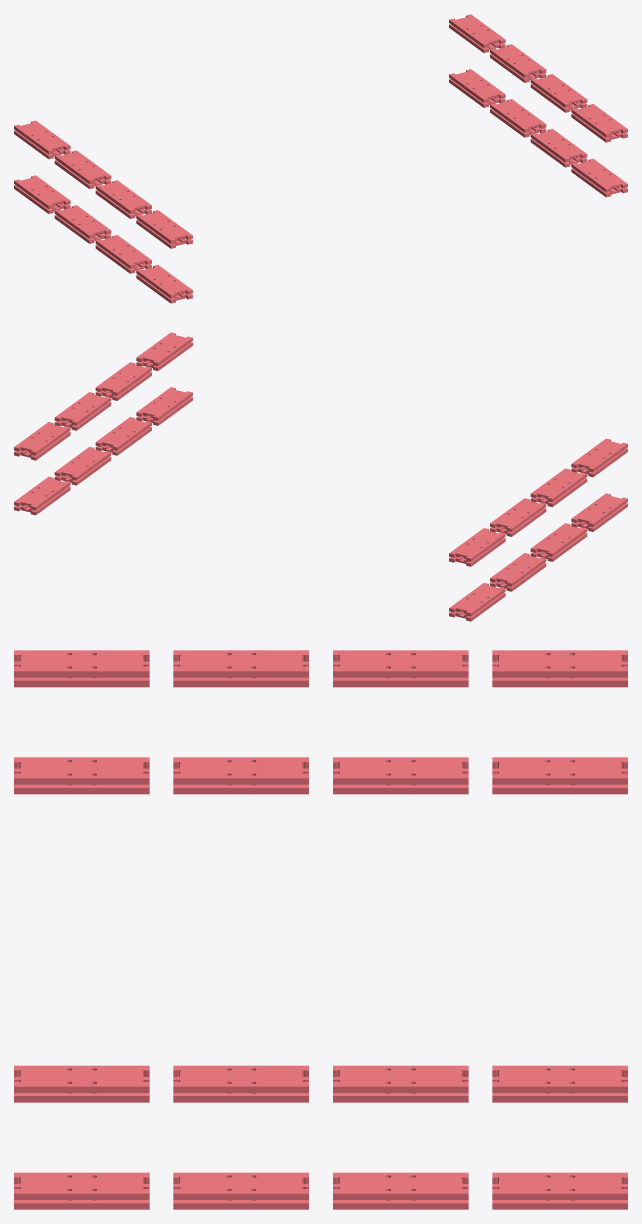
File: BATTERY CRATE STACK V2__BATTERY CRATE L1__BATTERY MODULE V2 CLAMPS__SPINE ASM FRONT STOP__SPINE BASE.glb
3 renders of one model, top to bottom at view 1: azimuth 30°, elevation 25°; view 2: azimuth 150°, elevation 25°; view 3: azimuth 270°, elevation 25°, orthographic. The views are drawn at different scales.
Parts seen in each view (by area): view 1: SPINE BASE 18, SPINE BASE 11, SPINE BASE 14, SPINE BASE 19, SPINE BASE 31, SPINE BASE 15, SPINE BASE 23, SPINE BASE 2, SPINE BASE 10, SPINE BASE 27, SPINE BASE 6, SPINE BASE 7 (+4 smaller); view 2: SPINE BASE 14, SPINE BASE 23, SPINE BASE 15, SPINE BASE 18, SPINE BASE 3, SPINE BASE 11, SPINE BASE 19, SPINE BASE 7, SPINE BASE 22, SPINE BASE 30, SPINE BASE 2, SPINE BASE 10 (+4 smaller); view 3: SPINE BASE 2, SPINE BASE 3, SPINE BASE 14, SPINE BASE 15, SPINE BASE 18, SPINE BASE 19, SPINE BASE 30, SPINE BASE 31, SPINE BASE 7, SPINE BASE 11, SPINE BASE 23, SPINE BASE 27 (+20 smaller).
Part boxes in pixels (x1=…): SPINE BASE 18: x1=54, y1=205, x2=111, y2=238; SPINE BASE 11: x1=530, y1=74, x2=587, y2=107; SPINE BASE 14: x1=95, y1=235, x2=151, y2=268; SPINE BASE 19: x1=54, y1=150, x2=111, y2=184; SPINE BASE 31: x1=14, y1=120, x2=70, y2=154; SPINE BASE 15: x1=95, y1=180, x2=151, y2=213; SPINE BASE 23: x1=490, y1=44, x2=546, y2=77; SPINE BASE 2: x1=136, y1=265, x2=192, y2=298; SPINE BASE 10: x1=530, y1=129, x2=587, y2=162; SPINE BASE 27: x1=449, y1=14, x2=505, y2=48; SPINE BASE 6: x1=571, y1=158, x2=627, y2=192; SPINE BASE 7: x1=571, y1=104, x2=627, y2=137; SPINE BASE 14: x1=530, y1=523, x2=587, y2=556; SPINE BASE 23: x1=54, y1=392, x2=111, y2=425; SPINE BASE 15: x1=530, y1=468, x2=587, y2=502; SPINE BASE 18: x1=490, y1=553, x2=546, y2=586; SPINE BASE 3: x1=571, y1=438, x2=627, y2=472; SPINE BASE 11: x1=95, y1=362, x2=151, y2=395; SPINE BASE 19: x1=490, y1=498, x2=546, y2=531; SPINE BASE 7: x1=136, y1=332, x2=192, y2=366; SPINE BASE 22: x1=54, y1=447, x2=111, y2=480; SPINE BASE 30: x1=449, y1=583, x2=505, y2=616; SPINE BASE 2: x1=571, y1=493, x2=627, y2=526; SPINE BASE 10: x1=95, y1=417, x2=151, y2=450; SPINE BASE 2: x1=14, y1=757, x2=149, y2=784; SPINE BASE 3: x1=14, y1=650, x2=149, y2=677; SPINE BASE 14: x1=173, y1=757, x2=308, y2=784; SPINE BASE 15: x1=173, y1=650, x2=308, y2=677; SPINE BASE 18: x1=333, y1=757, x2=468, y2=784; SPINE BASE 19: x1=333, y1=650, x2=468, y2=677; SPINE BASE 30: x1=492, y1=757, x2=627, y2=784; SPINE BASE 31: x1=492, y1=650, x2=627, y2=677; SPINE BASE 7: x1=14, y1=1065, x2=149, y2=1092; SPINE BASE 11: x1=173, y1=1065, x2=308, y2=1092; SPINE BASE 23: x1=333, y1=1065, x2=468, y2=1092; SPINE BASE 27: x1=492, y1=1065, x2=627, y2=1092.
Bounding box in the file's own units: 0.9291 × 0.1222 × 0.5527.
